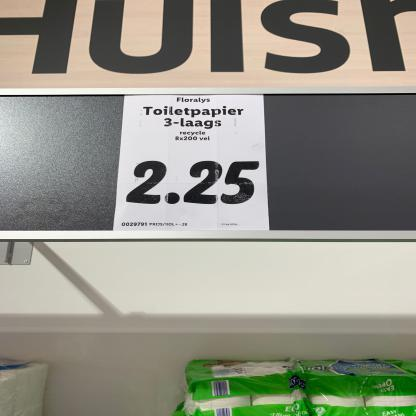prtg: (114, 95, 270, 232)
